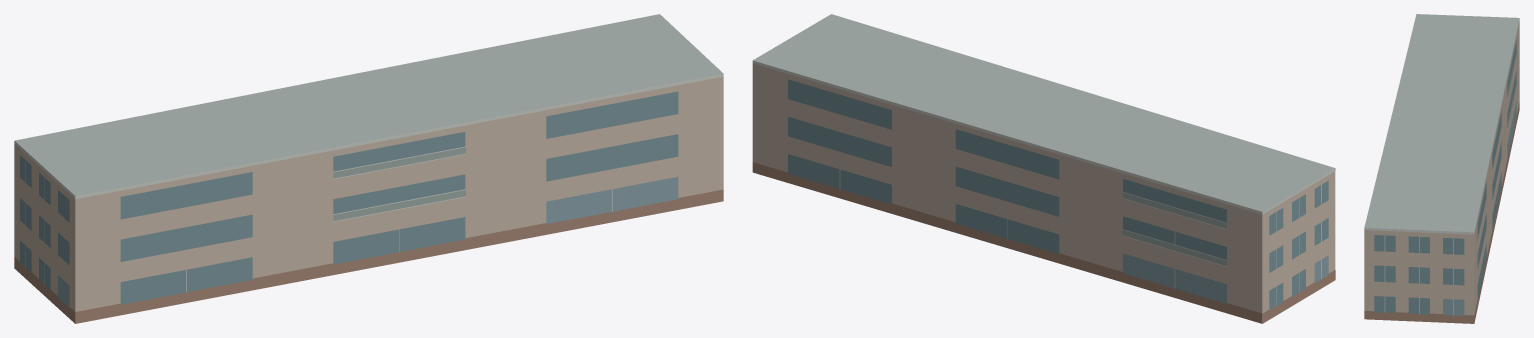
File: survey-upis-32766165.glb
The picture shows the model from 3 angles, left to right: view 1: azimuth 30°, elevation 25°; view 2: azimuth 150°, elevation 25°; view 3: azimuth 270°, elevation 25°; orthographic projection. The views are drawn at different scales.
Parts seen in each view (by area): view 1: survey-upis-32766165.tmp; view 2: survey-upis-32766165.tmp; view 3: survey-upis-32766165.tmp.
Boxes of the visible parts, <box> form: survey-upis-32766165.tmp: <box>14,14,723,323</box>; survey-upis-32766165.tmp: <box>752,14,1335,323</box>; survey-upis-32766165.tmp: <box>1364,14,1519,323</box>.
Size of the model in its own units: 49.62 by 9.7 by 14.93.
